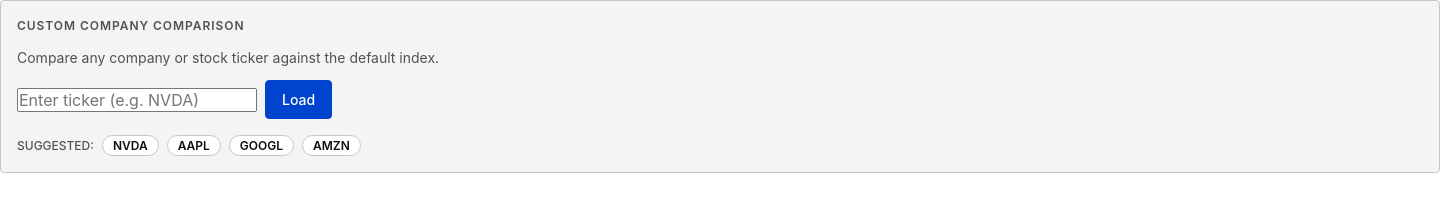
CompanySelector › shows error message when input contains digits or invalid characters
Type "IBM1" into the field with placeholder "Enter ticker (e.g. NVDA)".
click(137, 100); type("IBM1")  # box [17,88,257,112]
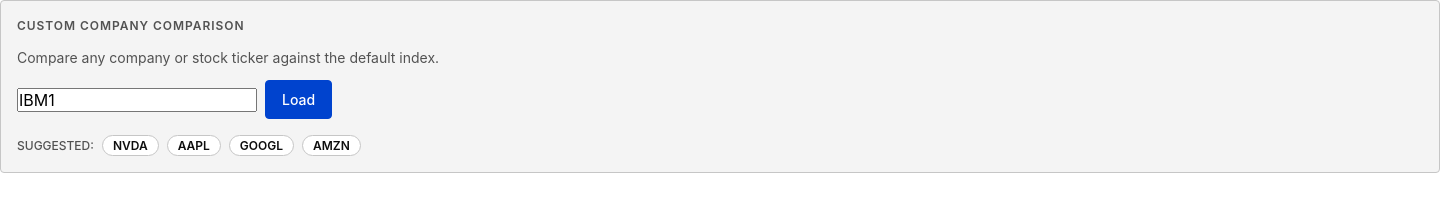
Click the button "Load".
click(299, 100)  # box [265,80,332,119]
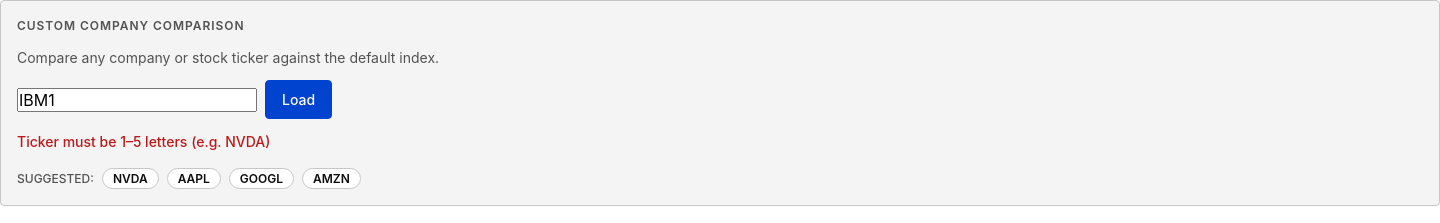
Expected: the text "Ticker must be 1–5 letters (e.g. NVDA)" is shown, [17,133,270,150]
